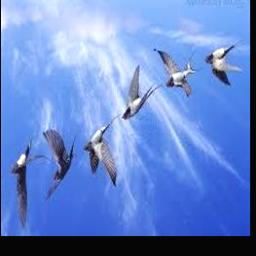Swallow: (11, 137, 45, 228), (84, 112, 123, 187), (154, 46, 201, 98), (43, 129, 77, 200), (122, 67, 163, 119), (205, 40, 242, 85)
